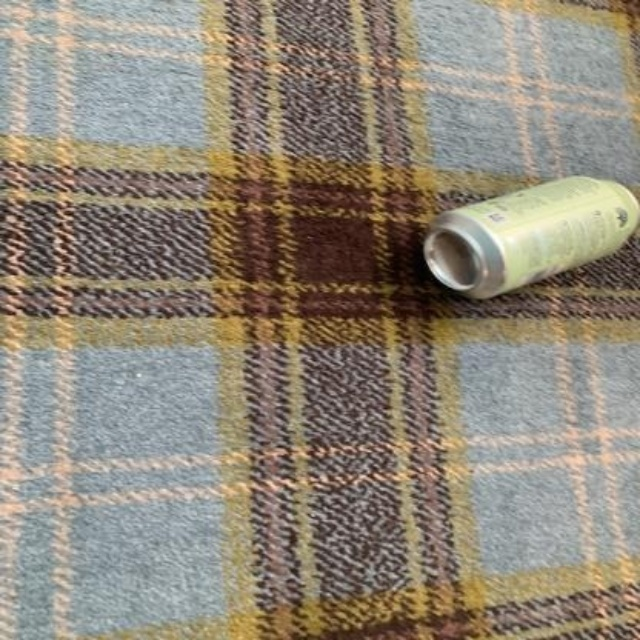trash: (423, 177, 638, 297)
